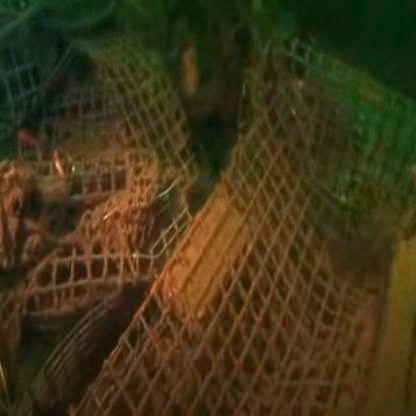net: (40, 78, 383, 404)
